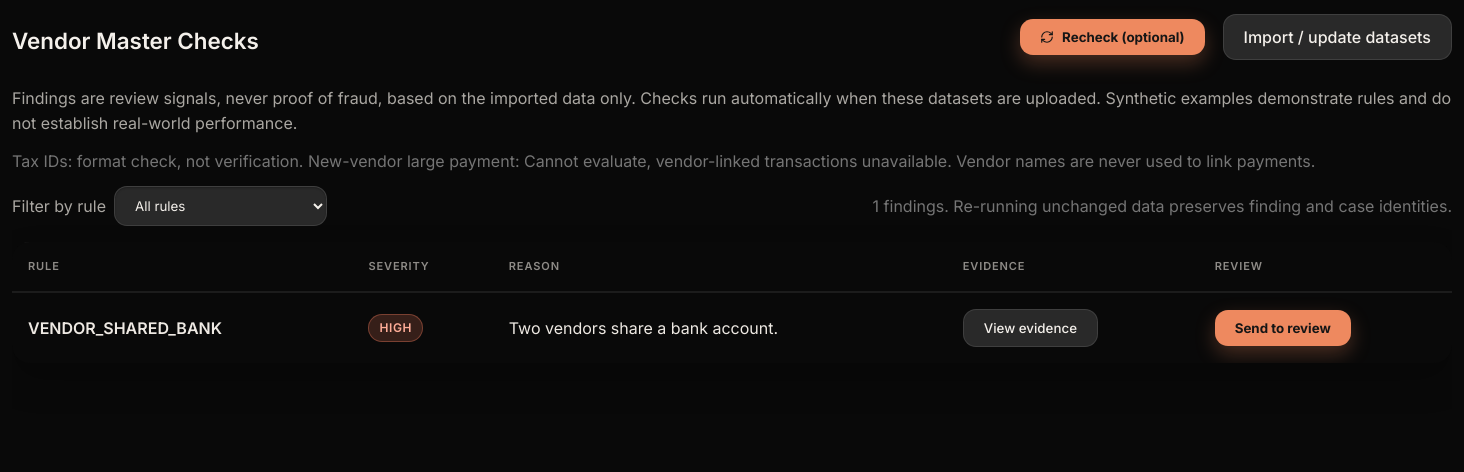
keeps stale finding errors visible instead of creating a case
Click the button "Send to review". click: (1283, 328)
box: top-left (1215, 310), bottom-right (1351, 346)
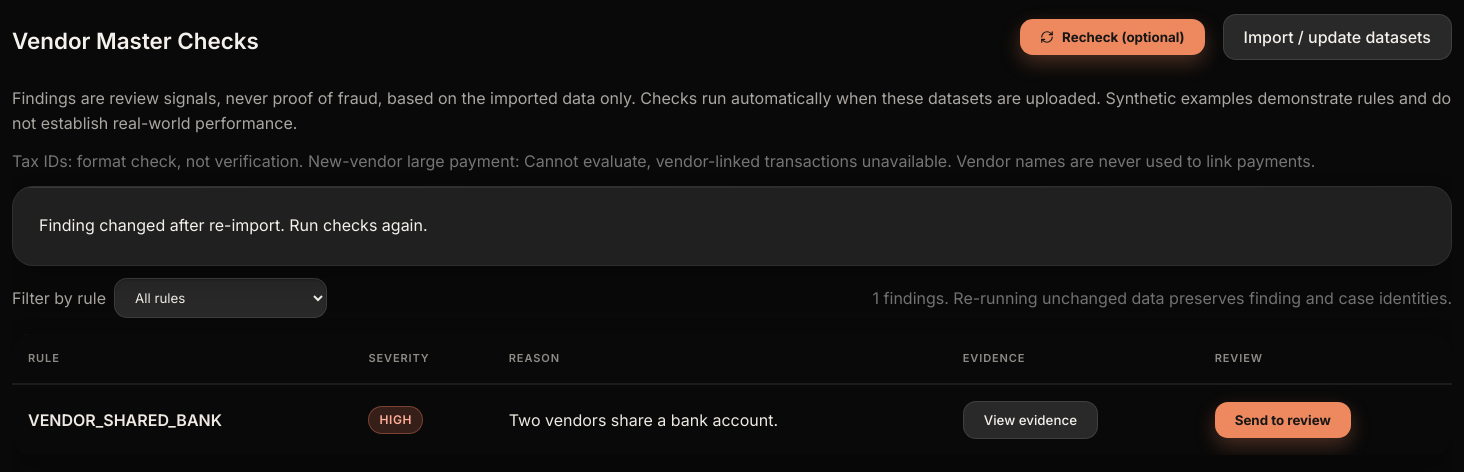
Expected: the message reads "Finding changed after re-import. Run checks again.", top-left (39, 215), bottom-right (428, 235)
